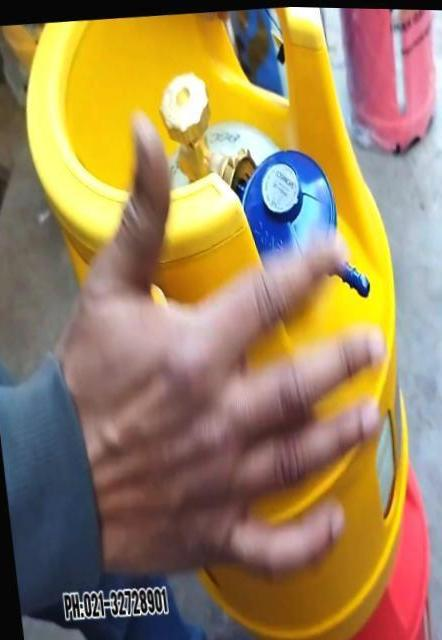cylinder: (1, 0, 442, 640)
